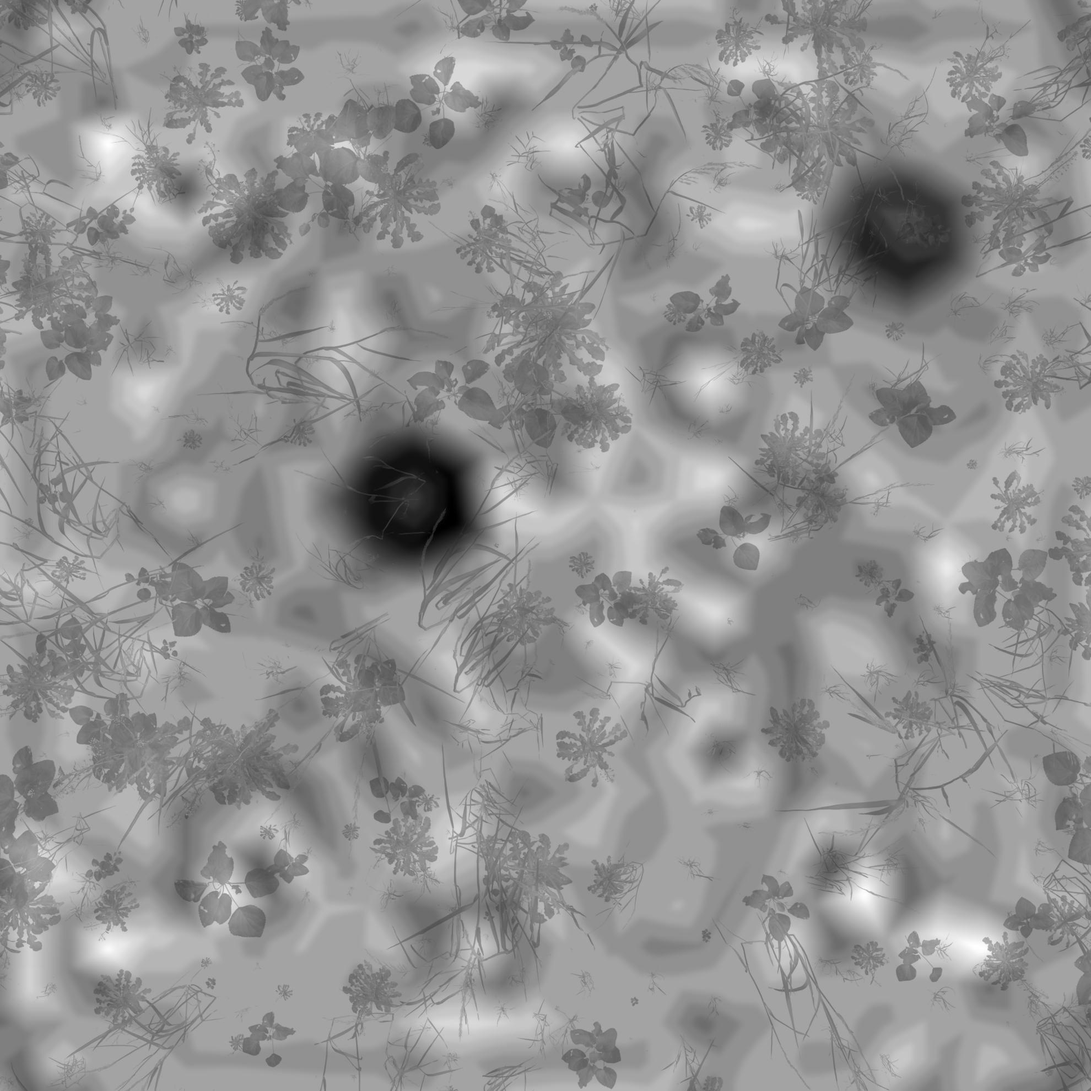landmine: (333, 433, 491, 580), (839, 175, 965, 289)
